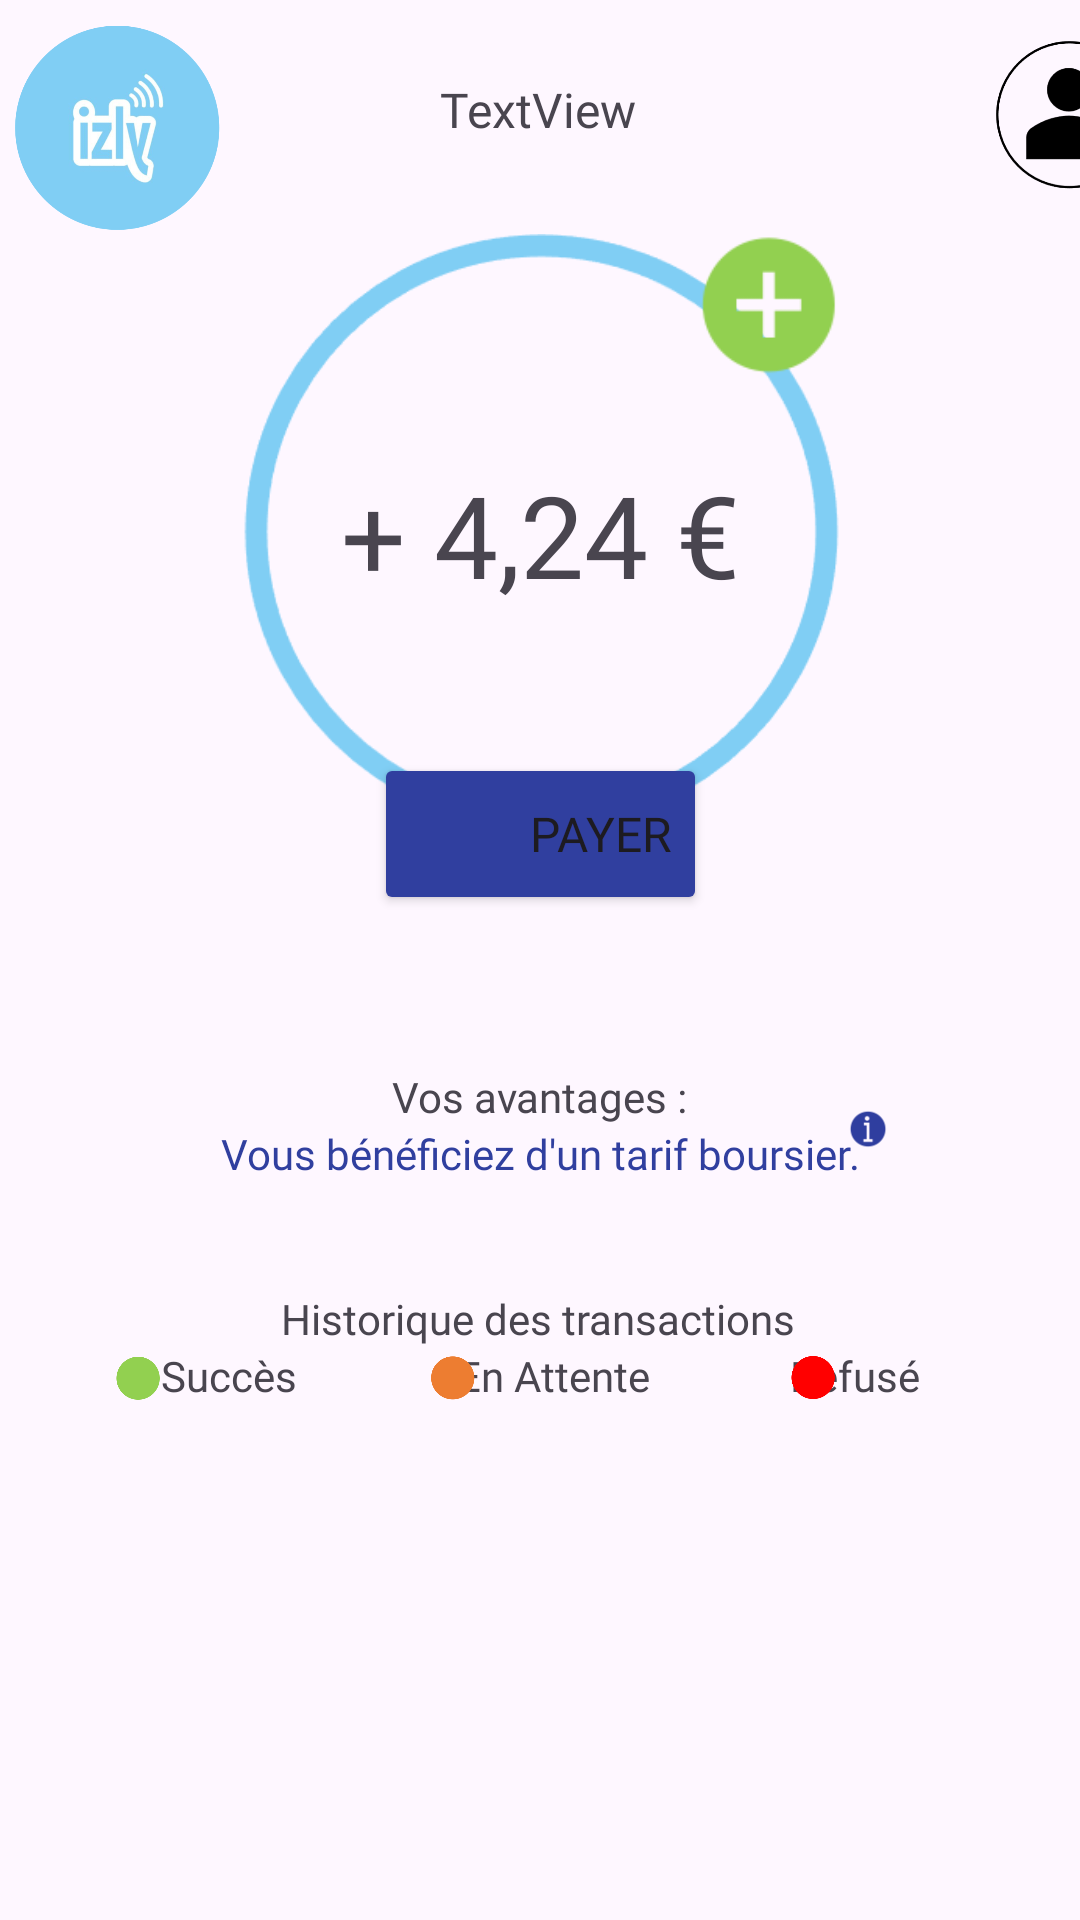

Named icons in this screenshot (1080px x 1920px) and their centers, (x=x, y=y):
info bleu: (x=868, y=1129)
